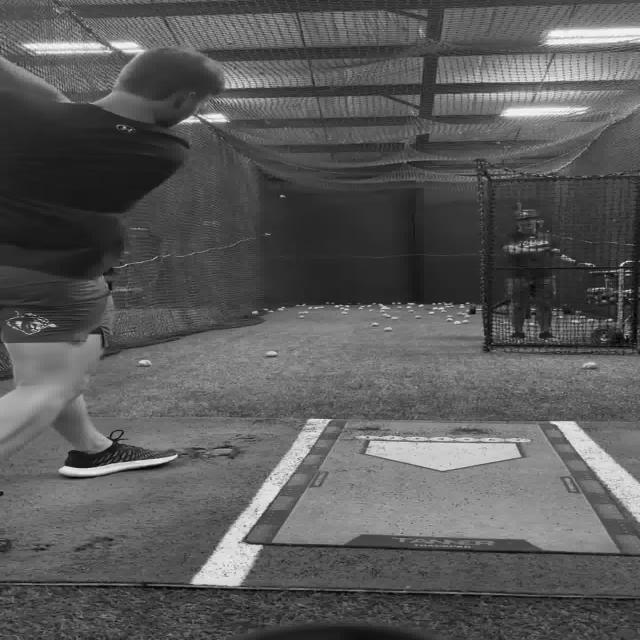base: (366, 439, 528, 469)
baseball: (581, 362, 599, 369), (264, 351, 278, 357), (137, 360, 151, 366), (276, 194, 290, 198), (383, 326, 392, 332)
shoe: (57, 432, 178, 478), (538, 332, 560, 342), (509, 332, 525, 338)
